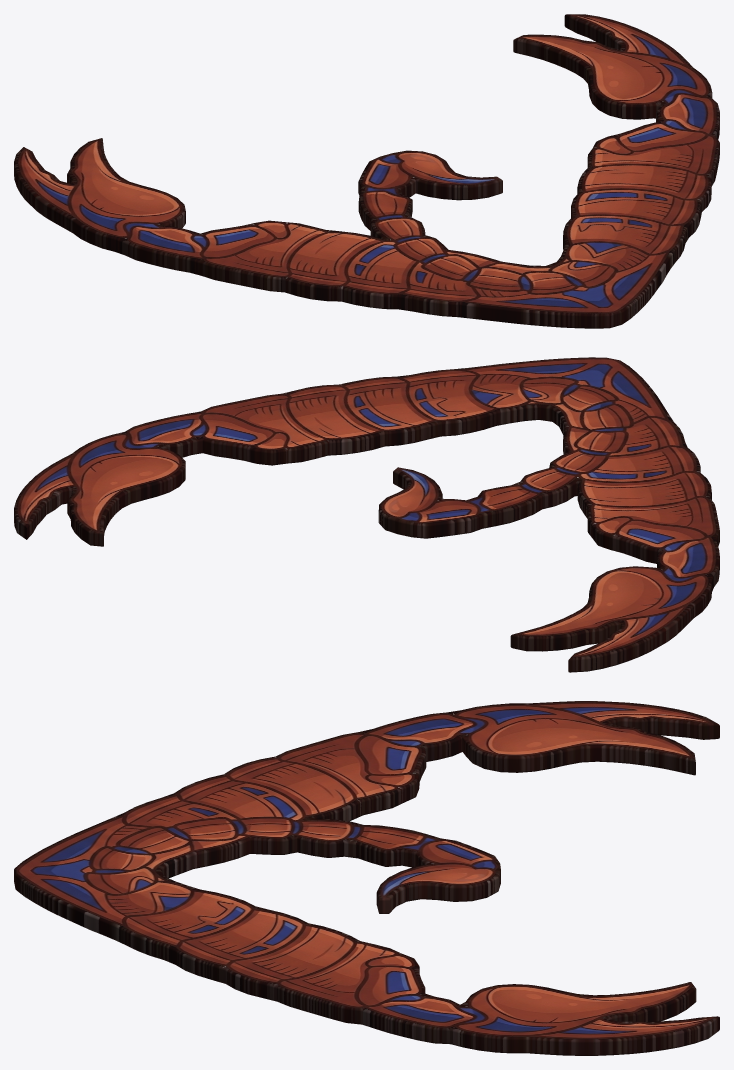
The model's file is Boomerang_26.fbx.
3 renders of one model, top to bottom at view 1: azimuth 30°, elevation 25°; view 2: azimuth 150°, elevation 25°; view 3: azimuth 270°, elevation 25°, orthographic. The views are drawn at different scales.
Visible parts, largest first — view 1: Boomerang_26; view 2: Boomerang_26; view 3: Boomerang_26.
Boxes of the visible parts, x1=… form: Boomerang_26: x1=14, y1=14, x2=719, y2=328; Boomerang_26: x1=14, y1=357, x2=719, y2=672; Boomerang_26: x1=14, y1=701, x2=719, y2=1055.
Size of the model in its own units: 201 by 4.4 by 176.
1 material, 1 textured.
